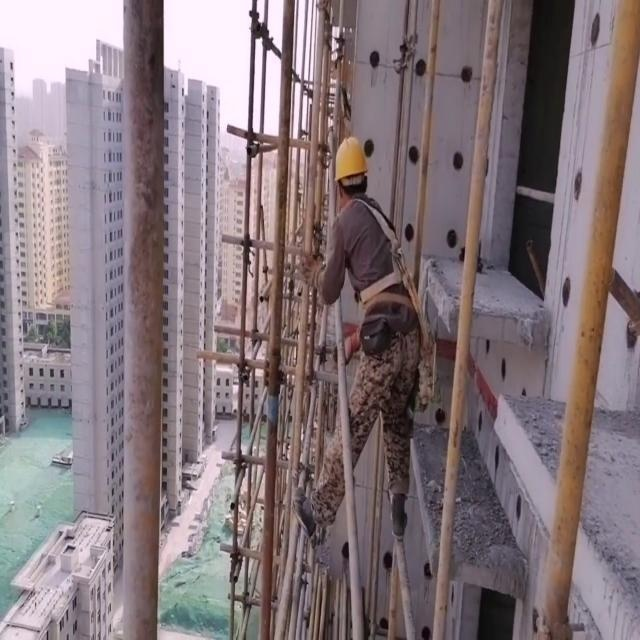Arnes_seguridad: (333, 192, 419, 303)
